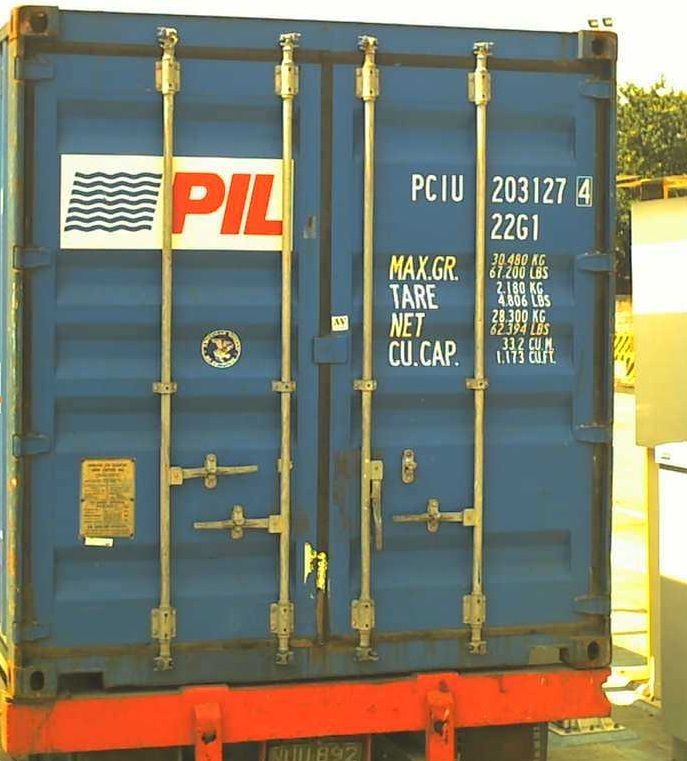container_door: (12, 4, 612, 720)
